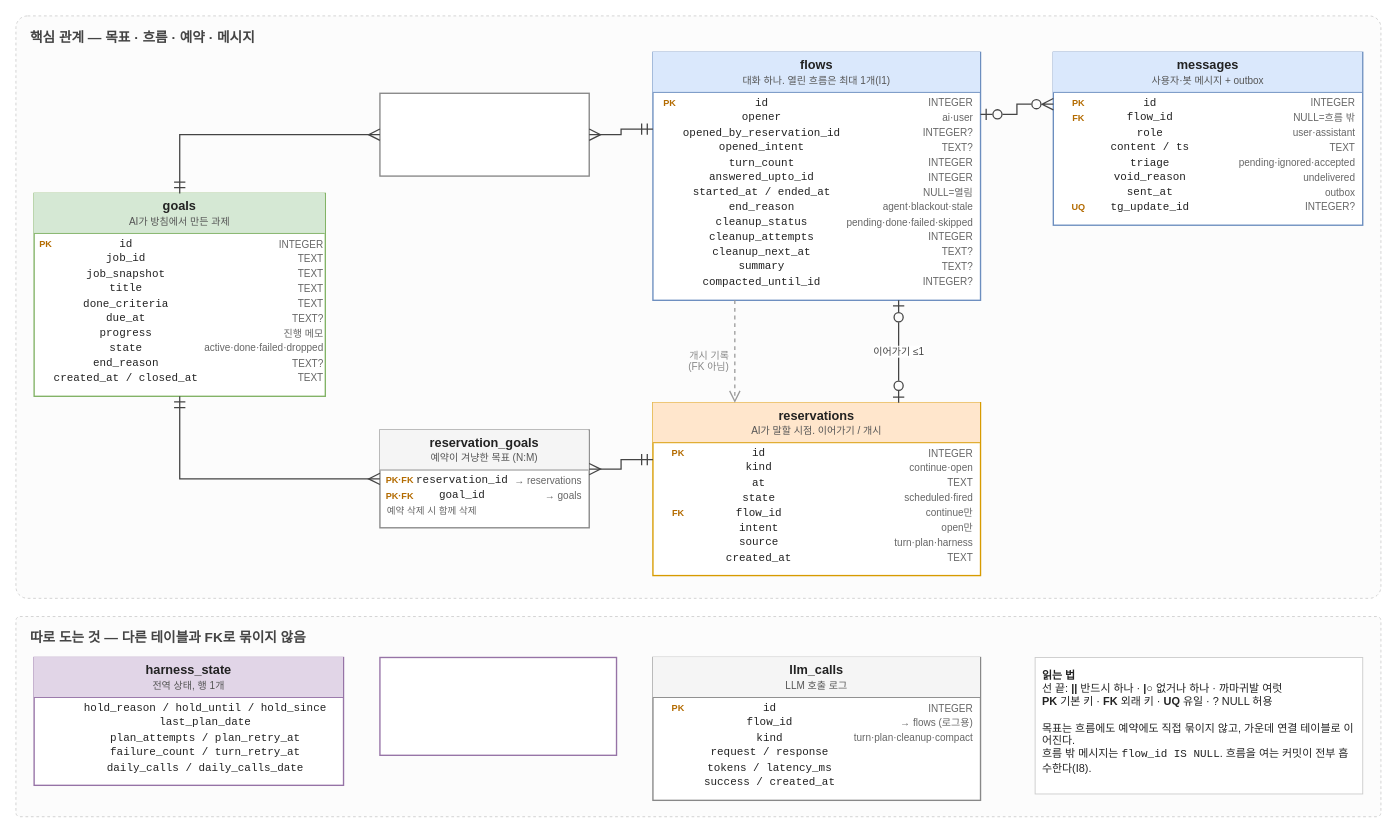
Some shapes in this 1397 by 833 pixel diagram are drawn without their labels. Here are the shapes that lost their labels. From the top down, the centre of each, then its label:
At (x=484, y=134): "flow_goals 흐름이 다룬 목표 (N:M) PK·FK flow_id → flows PK·FK goal_id → goals".
At (x=498, y=706): "plans 계획일당 1개, 참고용 PK plan_date TEXT body TEXT created_at TEXT".
